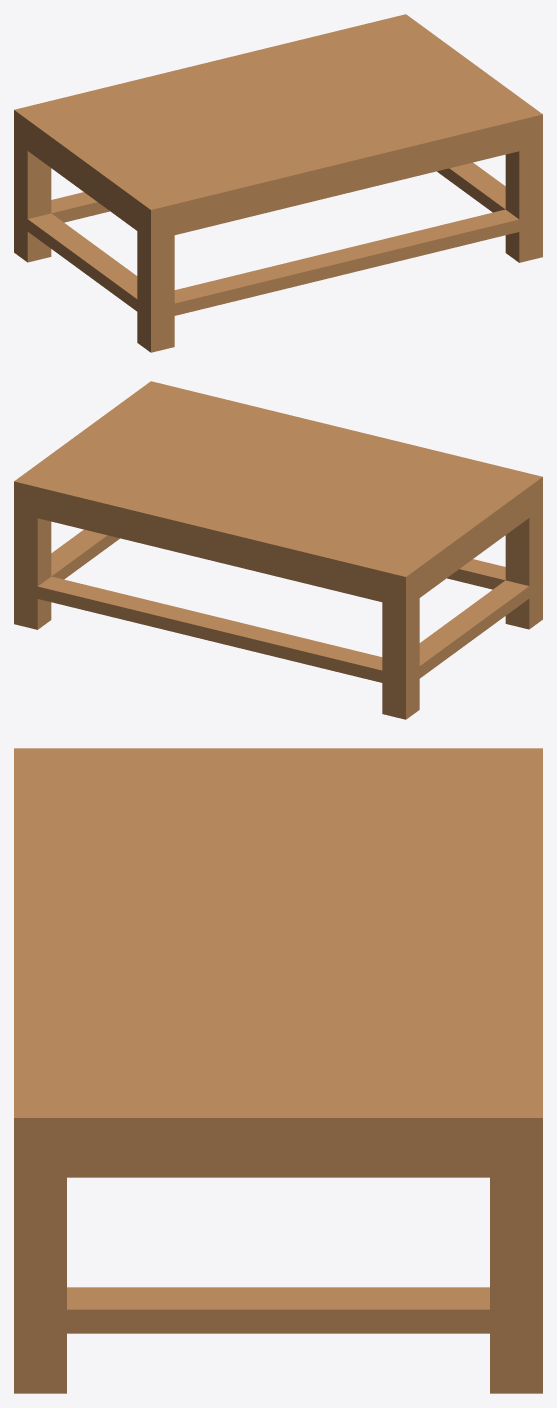
File: kitTableCoffee.glb
The picture shows the model from 3 angles, top to bottom: view 1: azimuth 30°, elevation 25°; view 2: azimuth 150°, elevation 25°; view 3: azimuth 270°, elevation 25°; orthographic projection. The views are drawn at different scales.
Parts seen in each view (by area): view 1: kitTableCoffee_wood; view 2: kitTableCoffee_wood; view 3: kitTableCoffee_wood.
Boxes of the visible parts, bbox=[...] form: kitTableCoffee_wood: bbox=[14, 14, 542, 352]; kitTableCoffee_wood: bbox=[14, 381, 542, 719]; kitTableCoffee_wood: bbox=[14, 748, 542, 1393].
Bounding box in the file's own units: 1.32 × 0.46 × 0.8.
